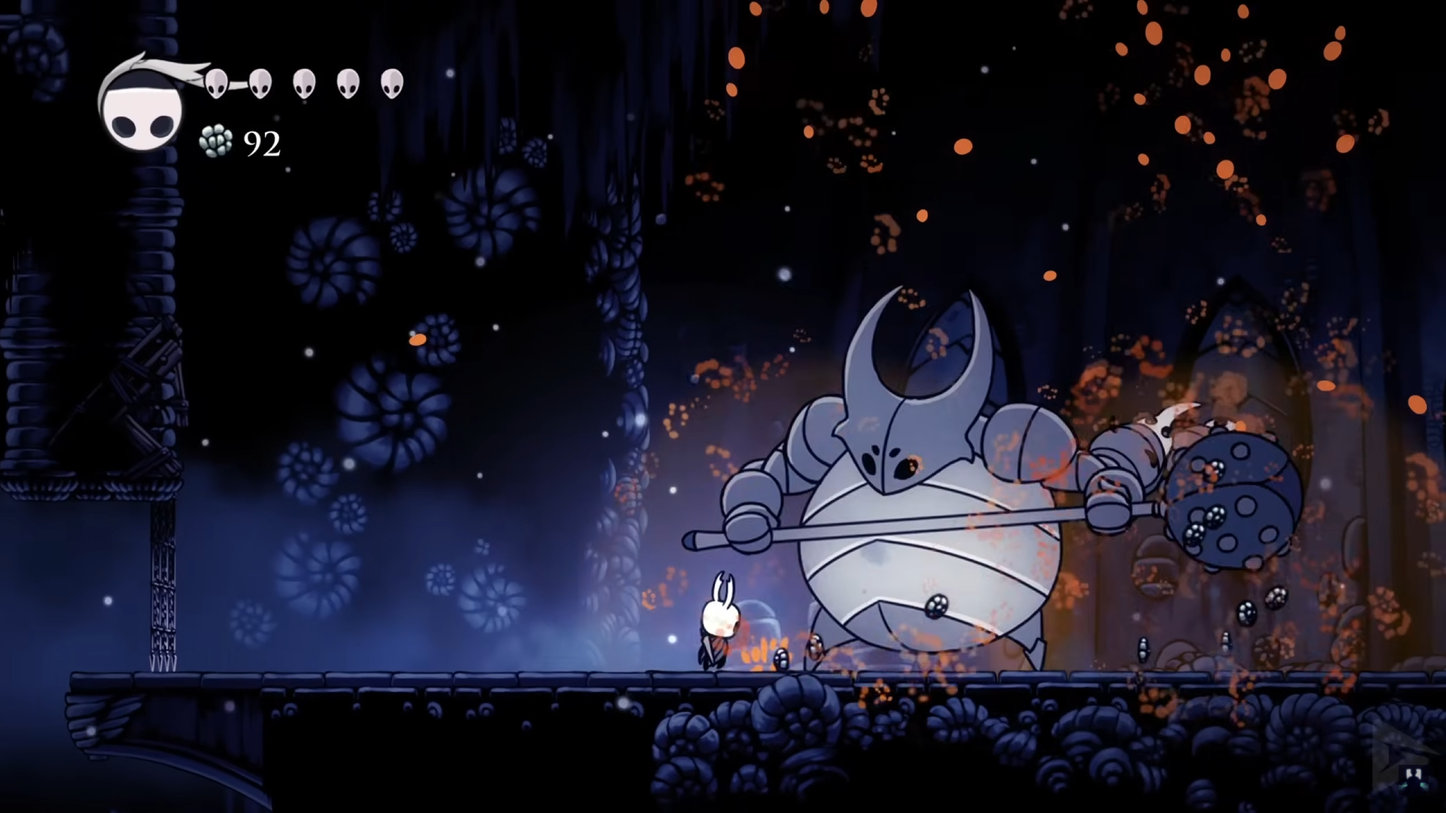HK: (693, 573, 745, 676)
